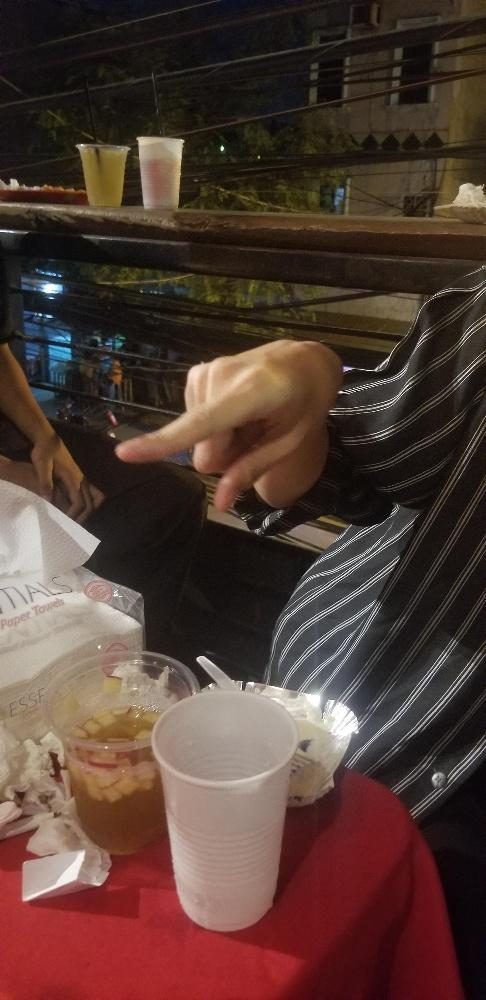z: (111, 336, 344, 521)
